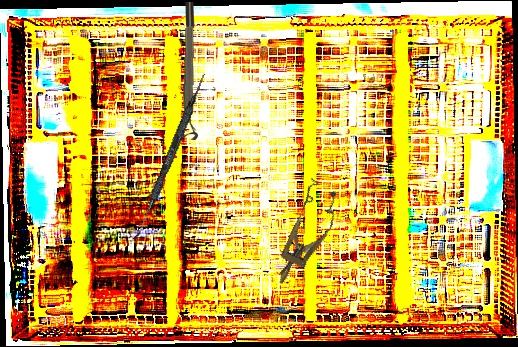Fixation Ring: (178, 1, 203, 141)
Spatula Surgical: (133, 71, 207, 243)
Speculum: (262, 177, 348, 293)
